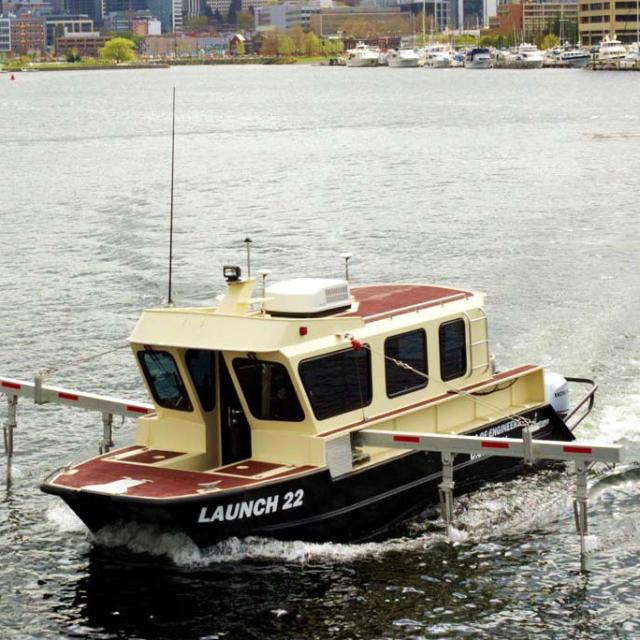houseboat: (56, 254, 577, 538)
